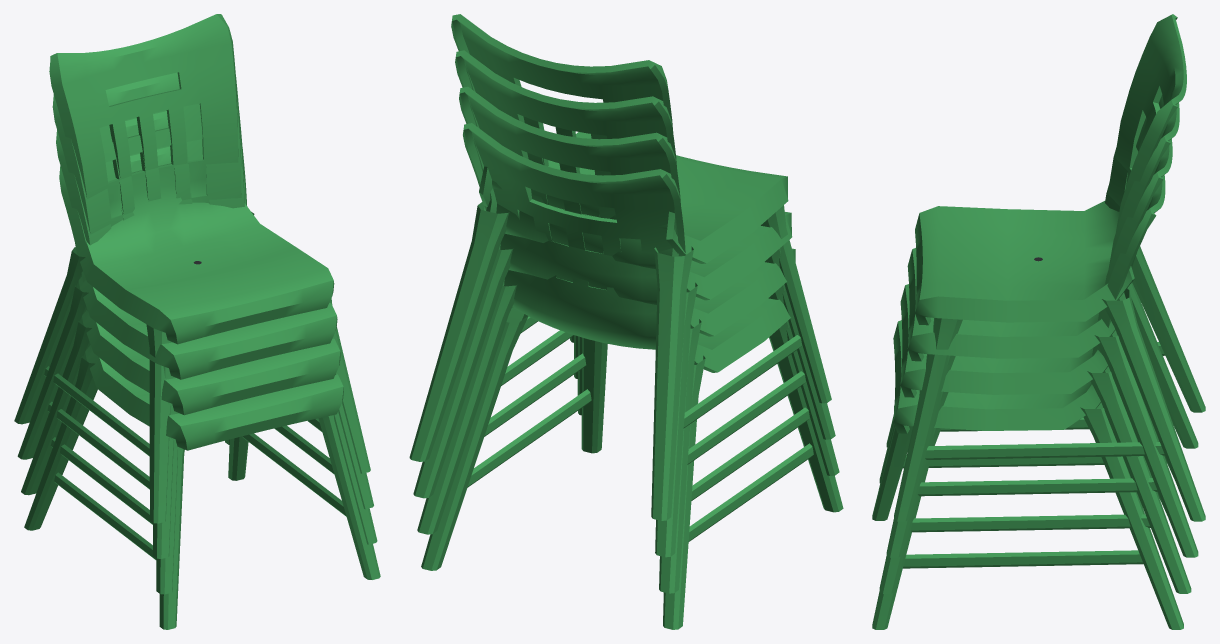
File: SC_Ter_Chair_Stack_Green.gltf
The picture shows the model from 3 angles, left to right: view 1: azimuth 30°, elevation 25°; view 2: azimuth 150°, elevation 25°; view 3: azimuth 270°, elevation 25°; orthographic projection. The views are drawn at different scales.
Visible parts, largest first — view 1: SC_Ter_Chair_Stack_Green; view 2: SC_Ter_Chair_Stack_Green; view 3: SC_Ter_Chair_Stack_Green.
Part boxes in pixels (x1,y1,x2,y2): SC_Ter_Chair_Stack_Green: (14, 14, 380, 629); SC_Ter_Chair_Stack_Green: (409, 14, 843, 629); SC_Ter_Chair_Stack_Green: (872, 14, 1205, 629).
Bounding box in the file's own units: 0.5363 × 1.11 × 0.6514.
1 material, 1 textured.
